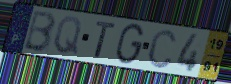4: (176, 32, 199, 74)
B: (21, 9, 58, 54)
C: (146, 27, 178, 70)
G: (113, 23, 146, 67)
Q: (52, 15, 84, 57)
T: (93, 20, 118, 60)
